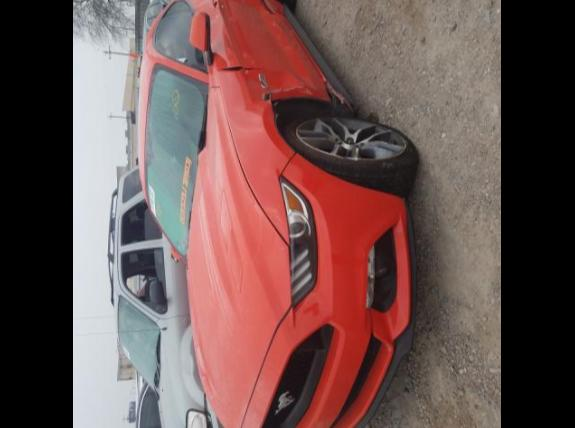Broken part: (323, 76, 352, 110), (270, 94, 300, 124), (212, 62, 274, 72), (260, 0, 280, 15)
Dent: (242, 68, 308, 110)
Scratch: (260, 82, 314, 102)
